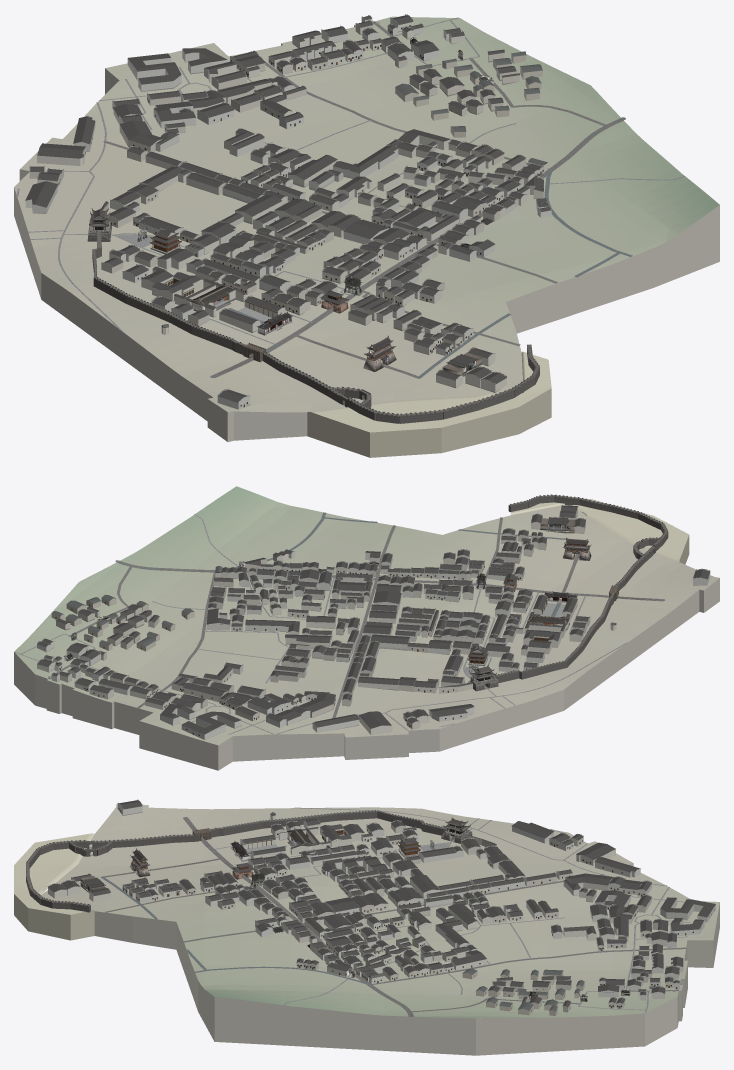
The model's file is city-fast.glb.
3 views of the same model, one above another, from view 1: azimuth 30°, elevation 25°; view 2: azimuth 150°, elevation 25°; view 3: azimuth 270°, elevation 25° (orthographic). The views are drawn at different scales.
Size of the model in its own units: 495 by 45.62 by 648.
Materials: 101 (30 with a texture image).
